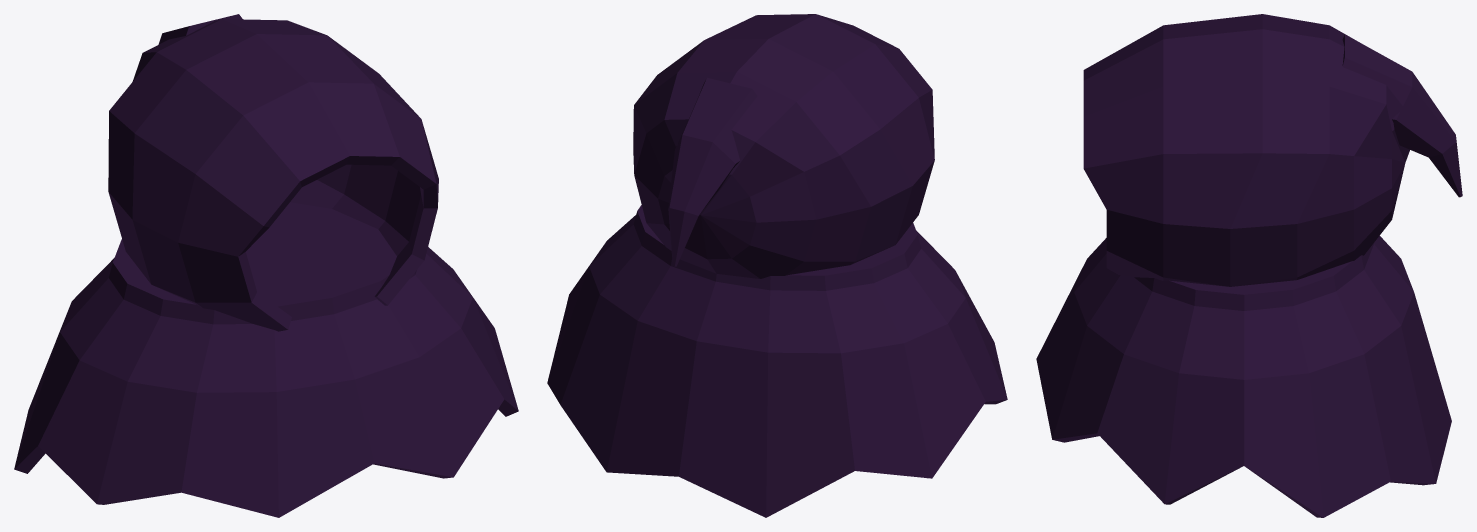
Rendered from Boss_Archer_Hood.fbx.
3 renders of one model, left to right at view 1: azimuth 30°, elevation 25°; view 2: azimuth 150°, elevation 25°; view 3: azimuth 270°, elevation 25°, orthographic. The views are drawn at different scales.
Visible parts, largest first — view 1: Boss_Archer_Hood; view 2: Boss_Archer_Hood; view 3: Boss_Archer_Hood.
Part boxes in pixels (box(x1,y1,x2,y2)): Boss_Archer_Hood: box(14, 14, 518, 517); Boss_Archer_Hood: box(547, 14, 1007, 517); Boss_Archer_Hood: box(1036, 14, 1462, 517).
Bounding box in the file's own units: 1.1 × 1.01 × 0.9251.
